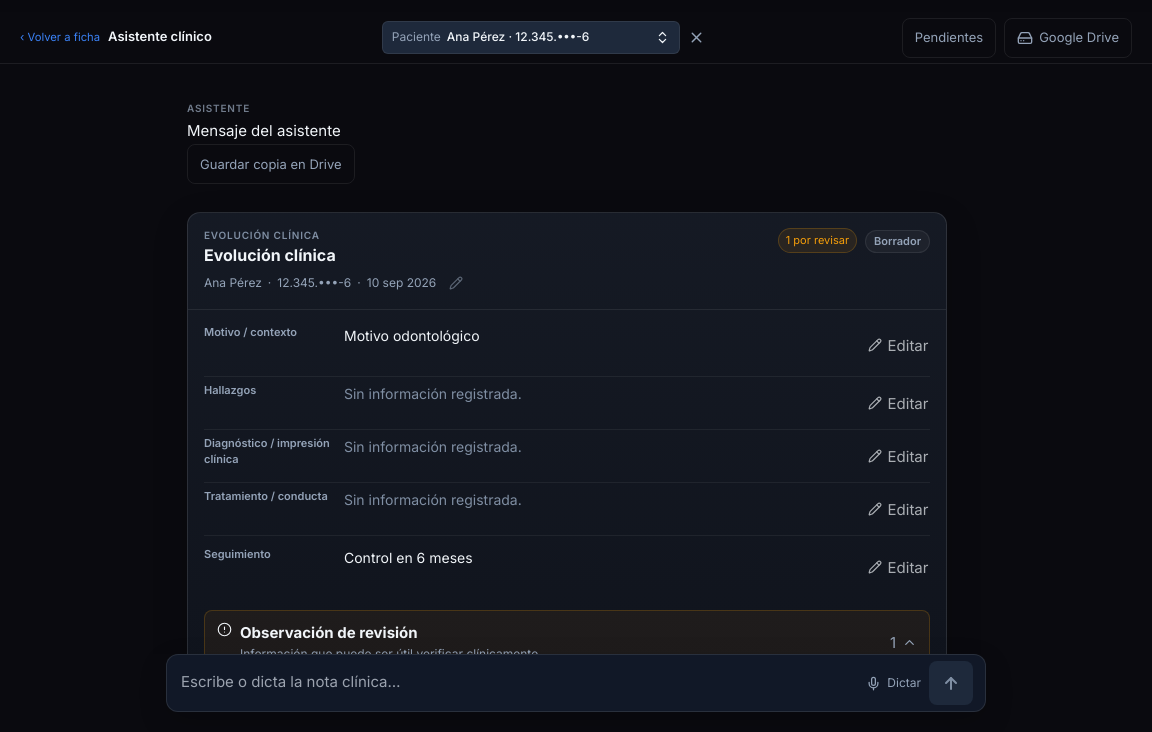
Test: Clinical Assistant Drive transfer › passes the active patient to the Drive workspace and loads its files
This screenshot has width=1152, height=732.
Click the button with aria-label "Abrir Google Drive" at (1068, 38), box [1004,18,1132,58]
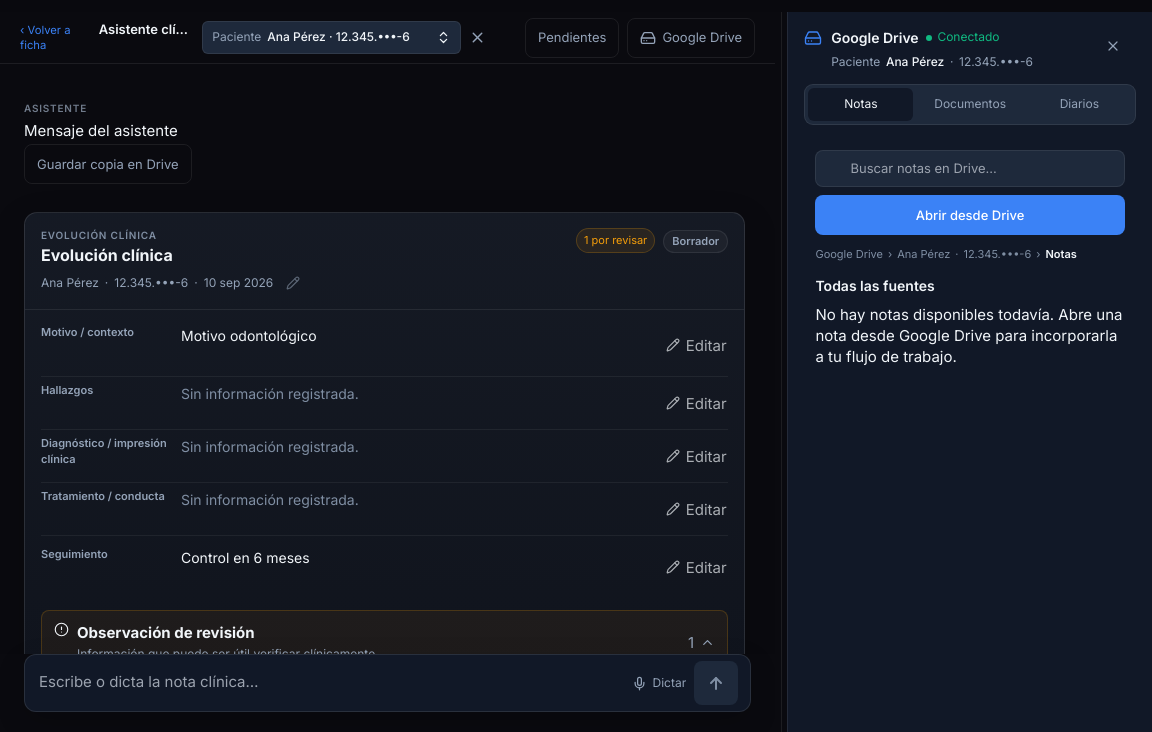
Check: the text "Conectado" is shown, box [926,29,1000,46]
